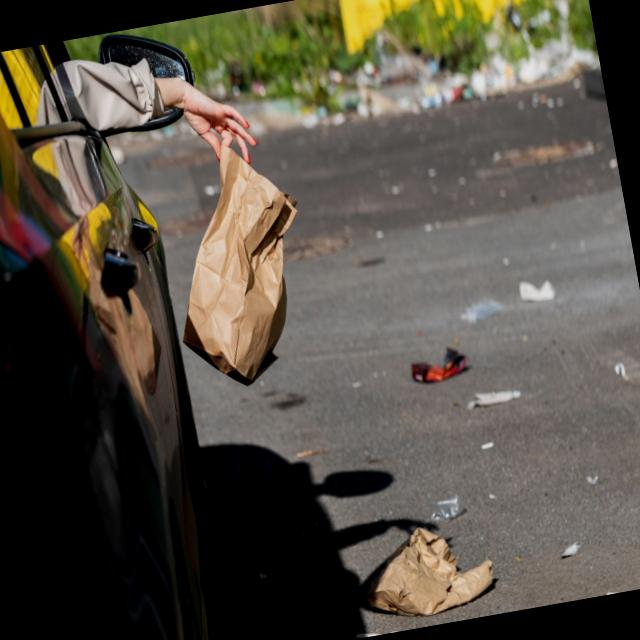garbage: (146, 128, 362, 402), (337, 468, 528, 638)
